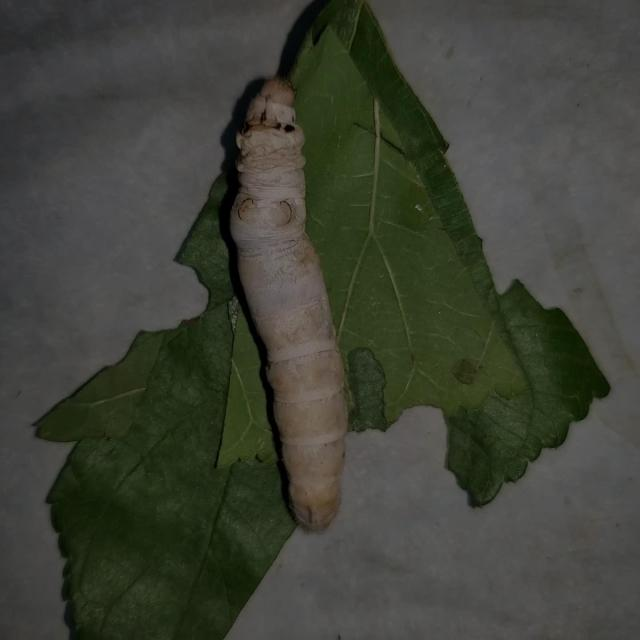Grasserie: (181, 51, 390, 570)
